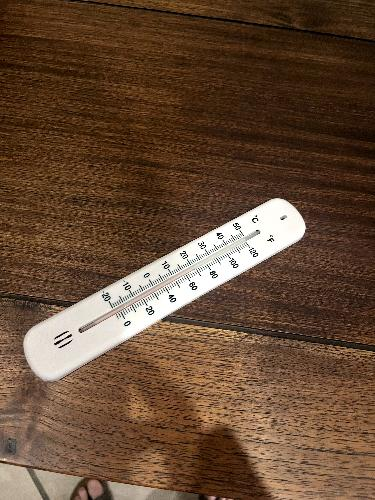thermo: (14, 190, 312, 389)
